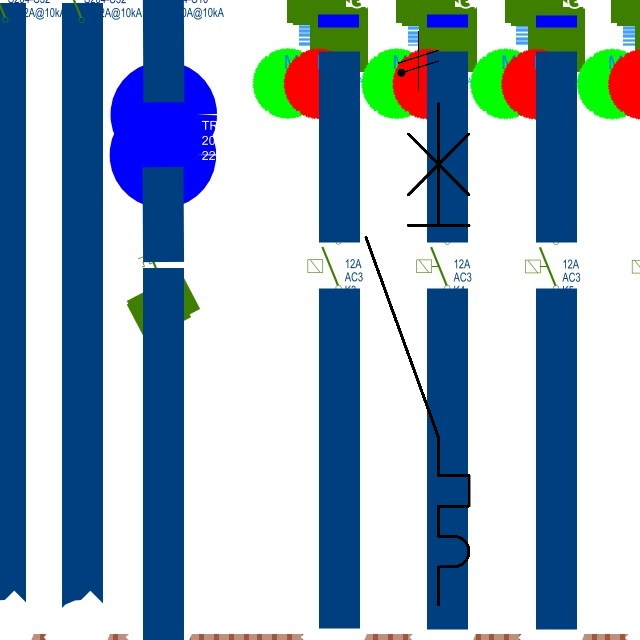interruptor_termomagnetico: (353, 90, 482, 617)
